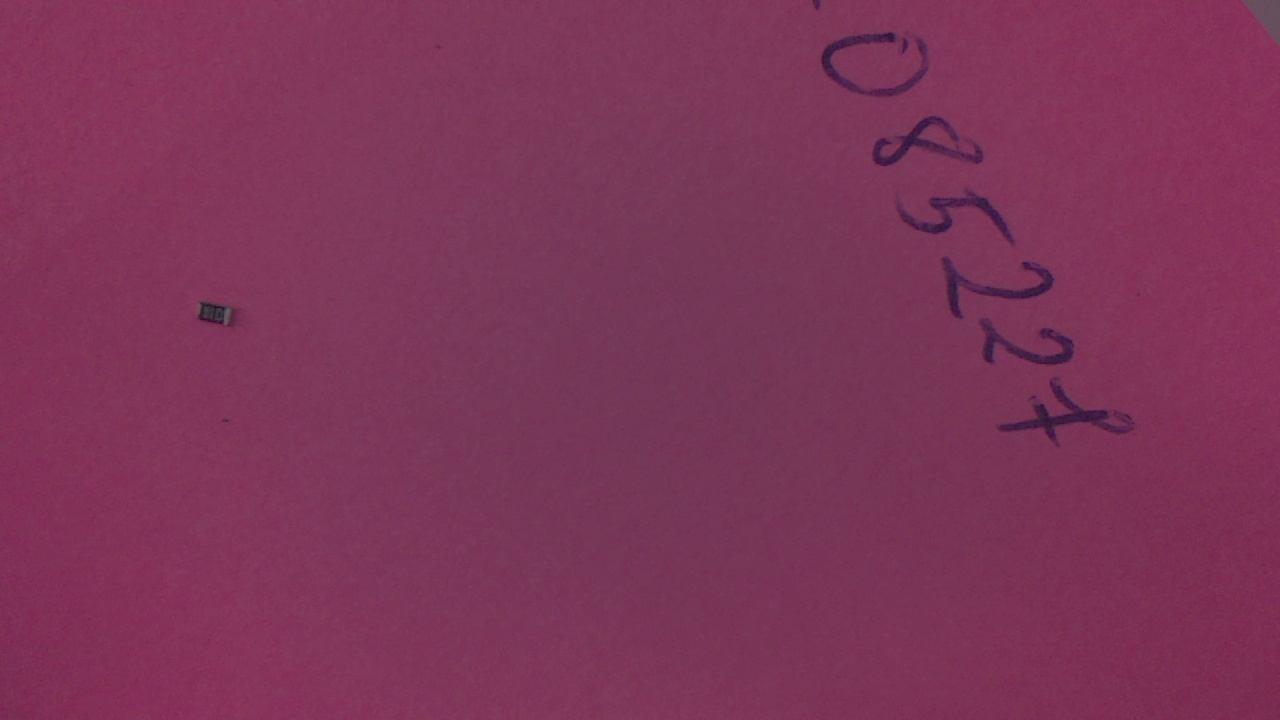Resistor: (200, 304, 239, 332)
